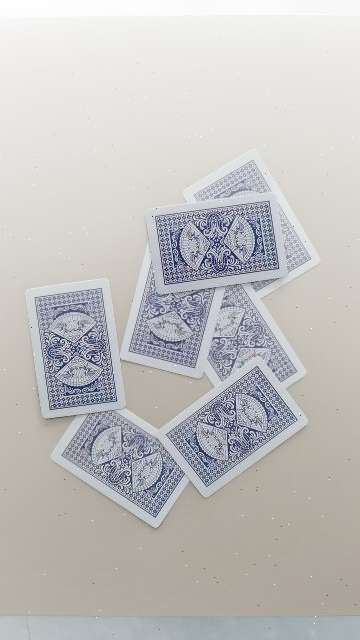card: (159, 358, 308, 498), (182, 149, 320, 297), (51, 409, 189, 528), (145, 192, 286, 294), (120, 246, 225, 379), (26, 279, 124, 418), (205, 284, 306, 387)
